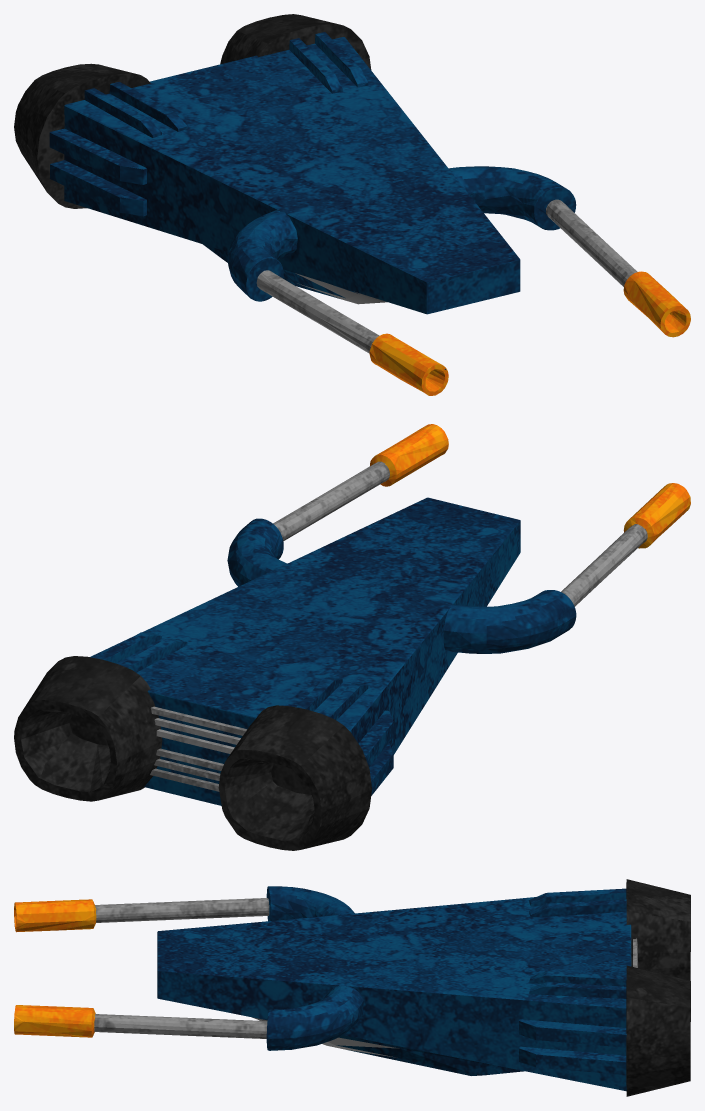
File: spaceship.obj
3 renders of one model, top to bottom at view 1: azimuth 30°, elevation 25°; view 2: azimuth 150°, elevation 25°; view 3: azimuth 270°, elevation 25°, orthographic. The views are drawn at different scales.
Visible parts, largest first — view 1: pCube6; view 2: pCube6; view 3: pCube6.
Part boxes in pixels (x1,y1,x2,y2): pCube6: [14, 14, 690, 395]; pCube6: [14, 424, 690, 850]; pCube6: [14, 879, 690, 1096].
Size of the model in its own units: 3.55 by 1.4 by 7.14.
1 material, 1 textured.
